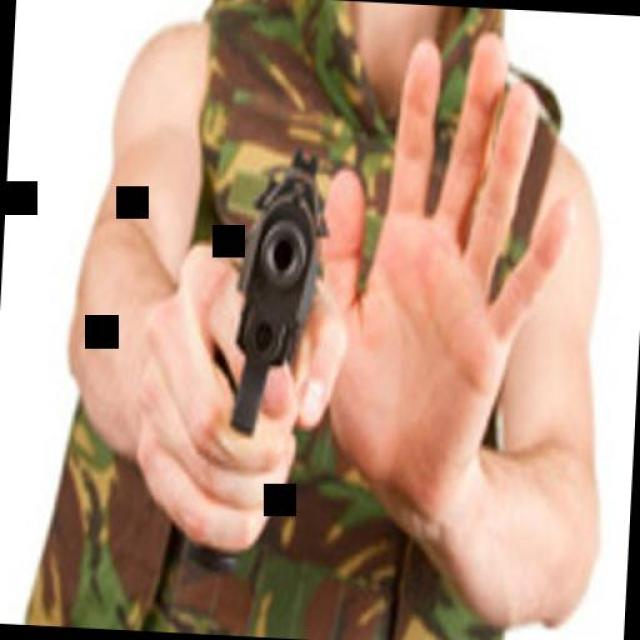gun: (200, 124, 336, 470)
